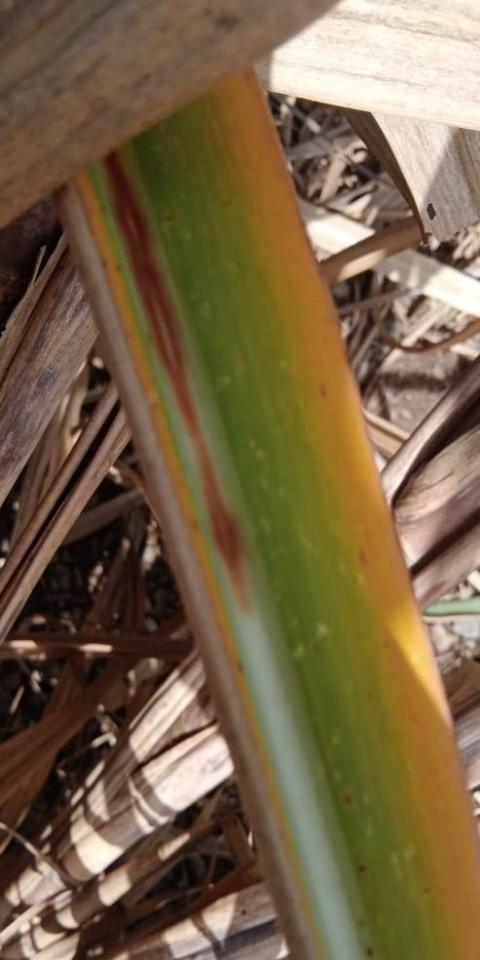RedRot: (103, 147, 256, 618)
Yellow: (211, 64, 479, 958), (74, 164, 331, 959)
